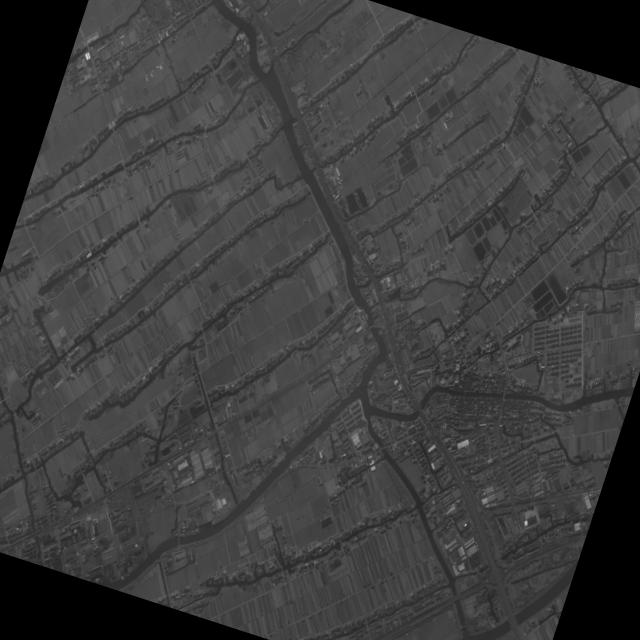ship: (361, 307, 364, 313), (365, 312, 367, 319)
